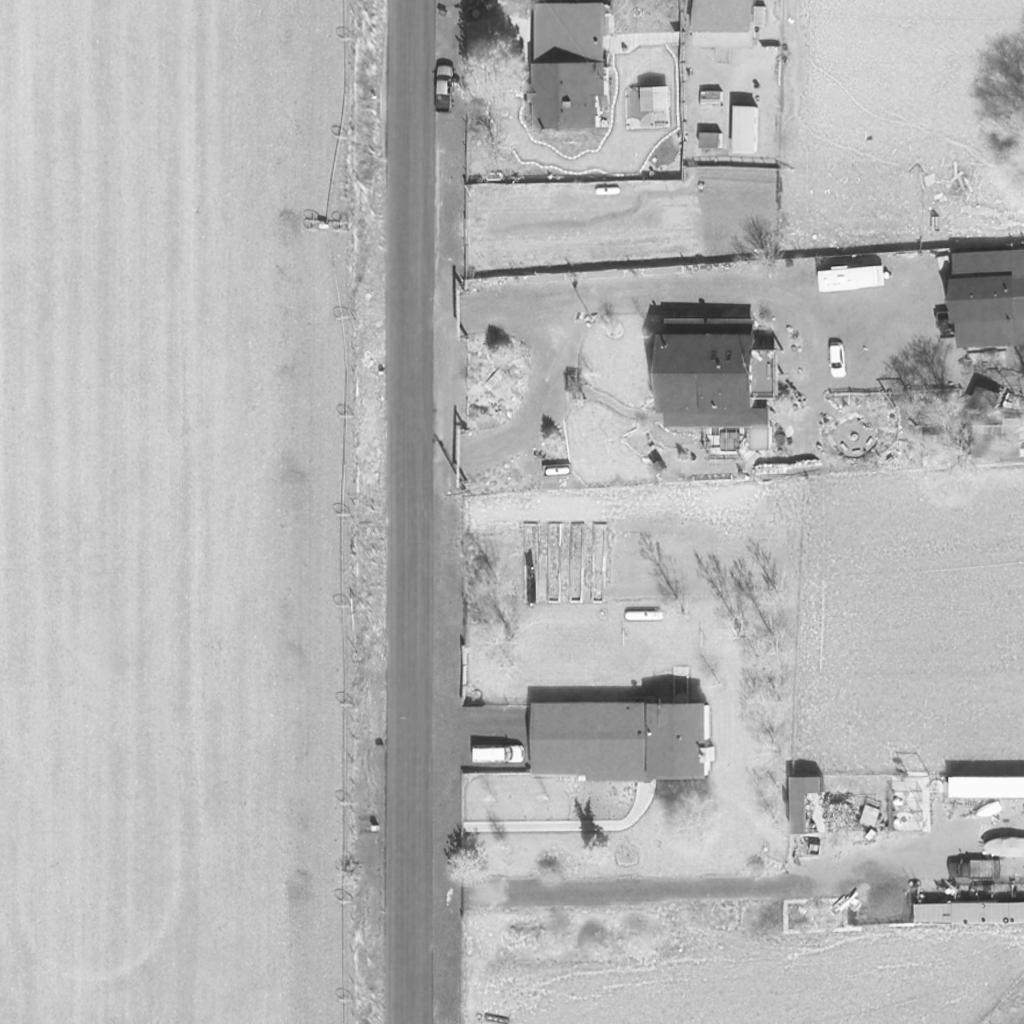vehicle: (819, 268, 885, 292), (435, 66, 455, 114), (950, 861, 1002, 879), (468, 746, 526, 762), (983, 837, 1023, 859), (827, 343, 847, 379), (977, 802, 1001, 818)
